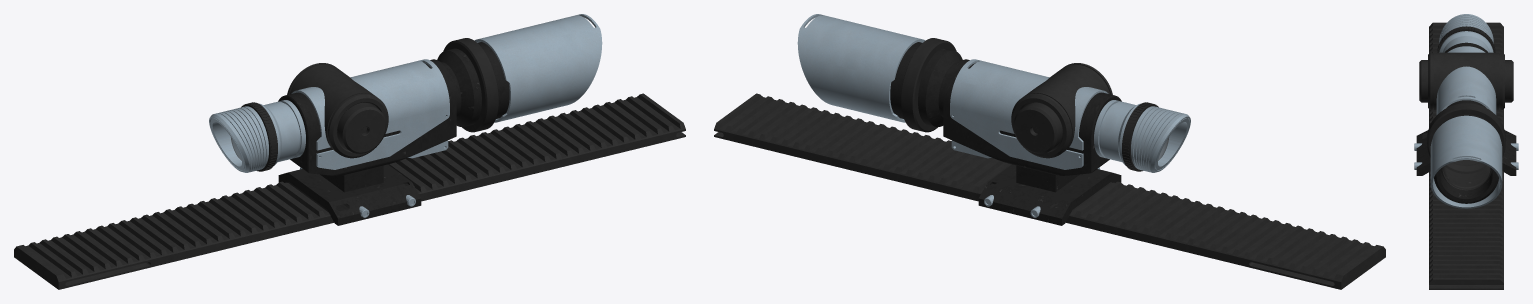
The model's file is Scope.gltf.
3 views of the same model, side by side, from view 1: azimuth 30°, elevation 25°; view 2: azimuth 150°, elevation 25°; view 3: azimuth 270°, elevation 25° (orthographic). The views are drawn at different scales.
Visible parts, largest first — view 1: Cube.029; view 2: Cube.029; view 3: Cube.029.
Boxes of the visible parts, x1,y1,x2,y2 form: Cube.029: (14, 14, 685, 289); Cube.029: (714, 14, 1385, 289); Cube.029: (1414, 14, 1518, 289).
Size of the model in its own units: 3.03 by 0.5774 by 0.5202.
5 materials, 4 textured.
